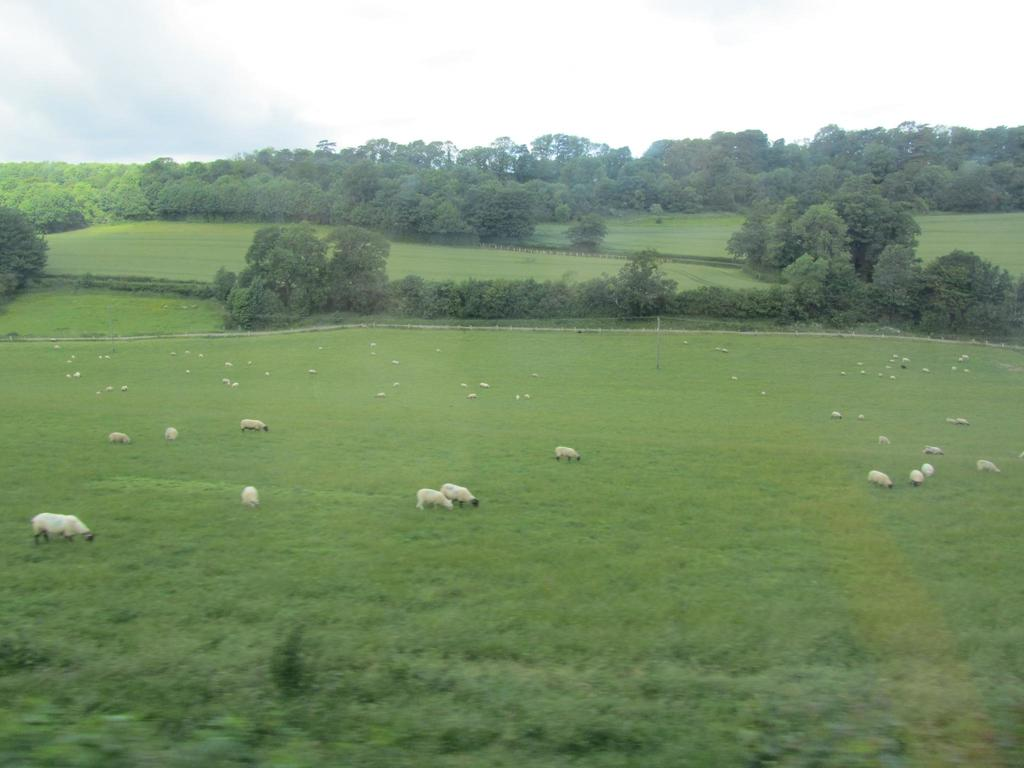sheep: (31, 515, 94, 544), (413, 487, 455, 512), (238, 419, 268, 433), (867, 469, 892, 485), (242, 487, 259, 508), (108, 431, 131, 446), (552, 448, 581, 459), (971, 459, 995, 471), (163, 430, 177, 442), (910, 469, 922, 483), (926, 446, 938, 453), (925, 464, 931, 473)
